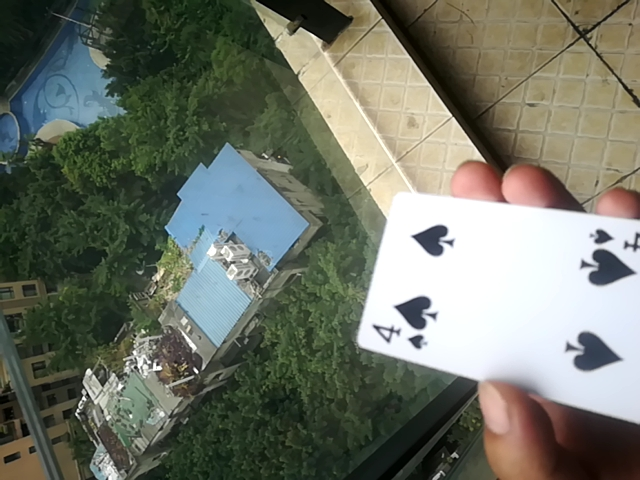ht 4: (347, 190, 638, 425)
